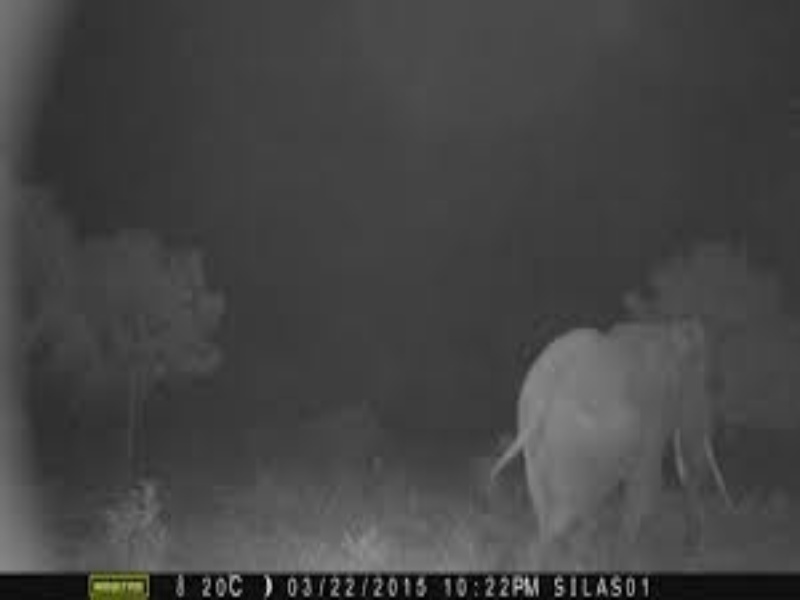elephant: (445, 251, 755, 565)
